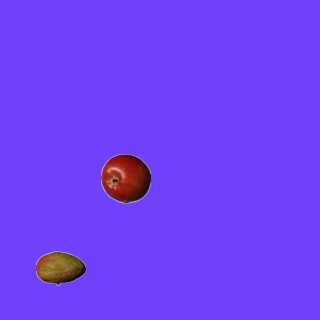Apple Braeburn: (100, 153, 150, 203)
Papaya: (35, 243, 85, 293)
